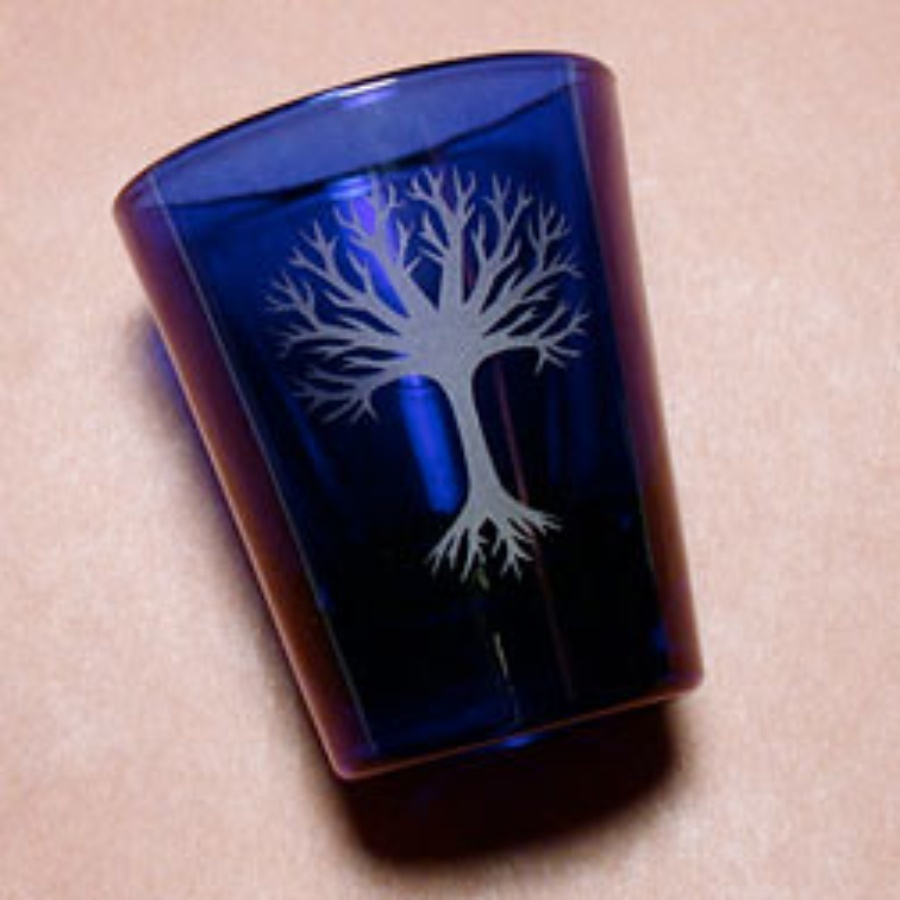whiskey: (117, 48, 720, 761)
